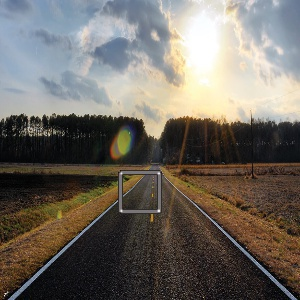square: (116, 168, 164, 215)
